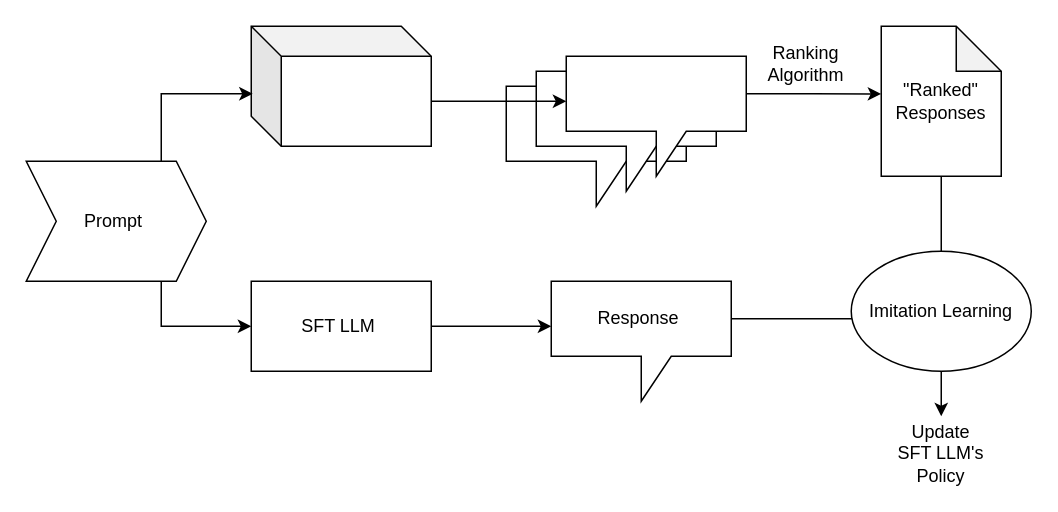
Image size: 1058x512. Some labels were removed from this diagram. Each missing label, with the box of its shape:
"Expert" LLMs: (250, 25, 431, 146)
Set Of Responses: (565, 55, 746, 176)
